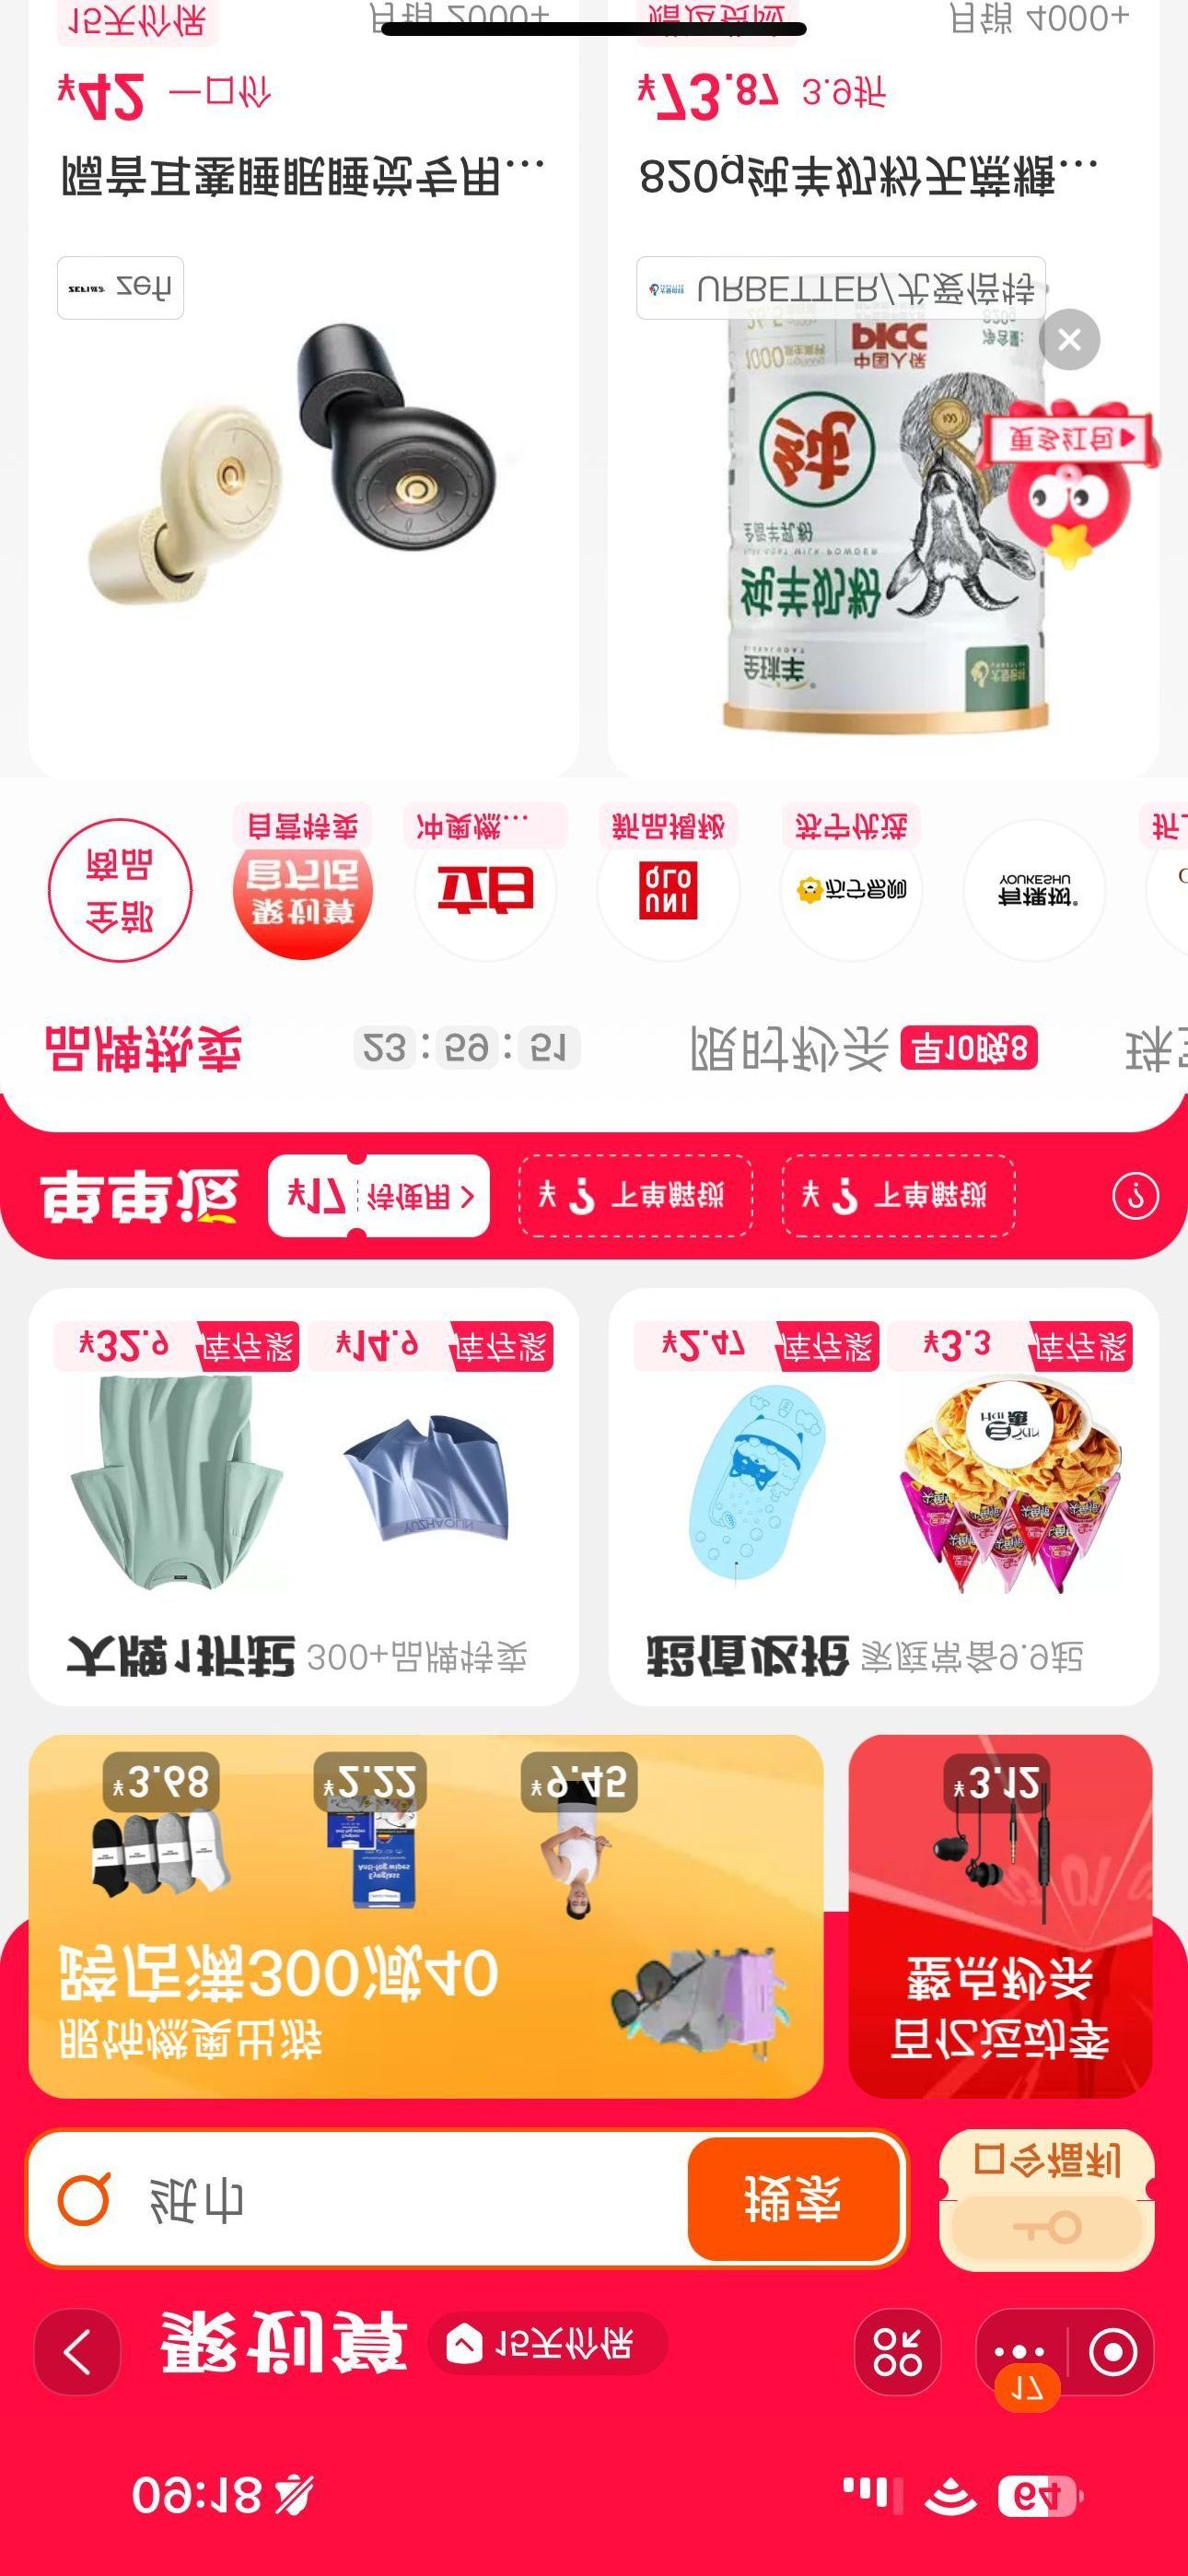item: (10, 2, 606, 770), (605, 3, 1175, 793)
op_bar: (10, 2282, 1185, 2440)
seckill: (5, 1270, 1176, 1723)
